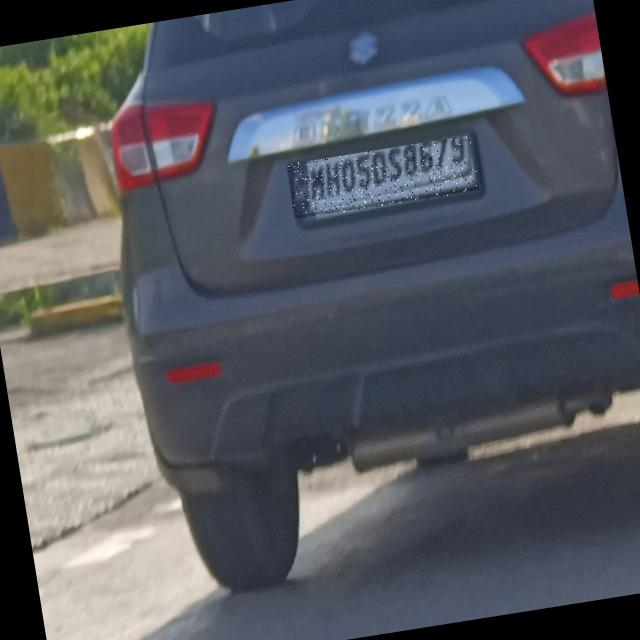Plate: (288, 137, 481, 222)
